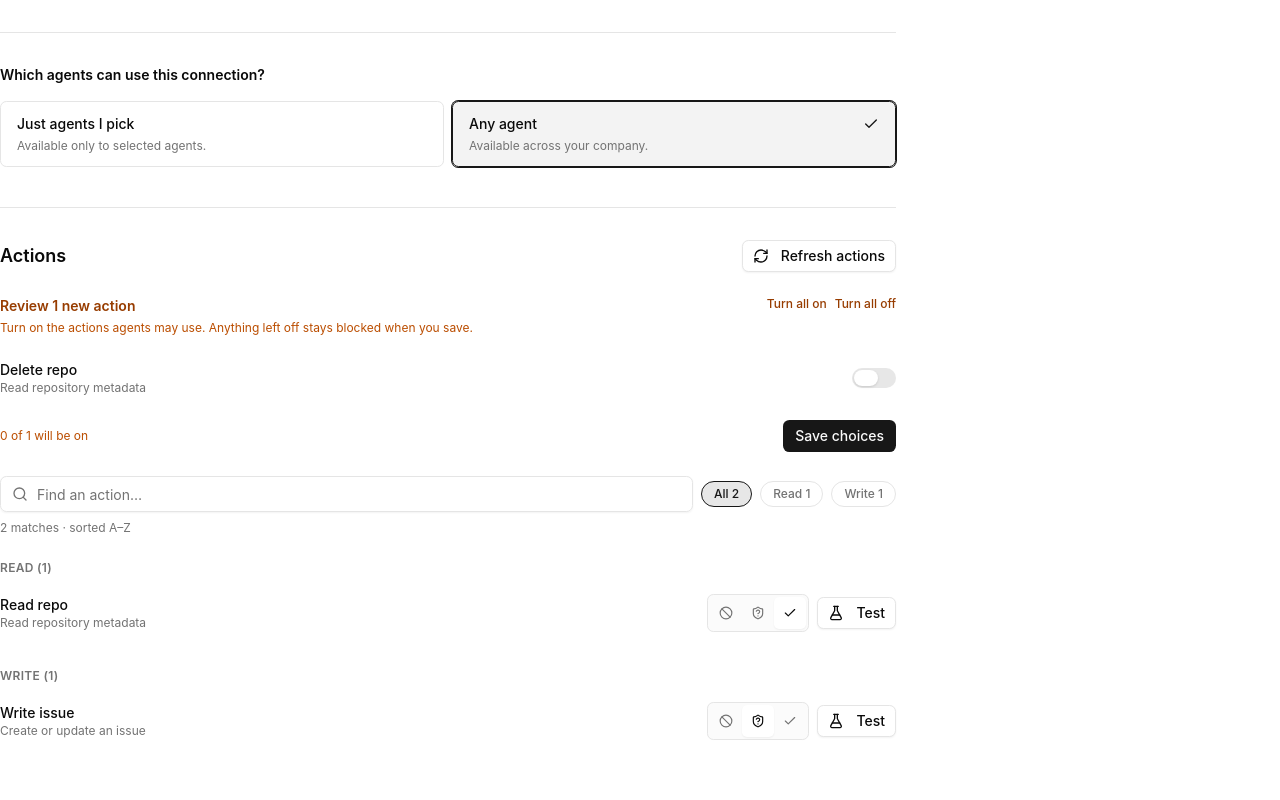
Test: AppDetail › opens an action test modal with agent selection, inputs, and result-ready chrome
(page scrolled)
What coordinates should you click on to do the following:
click the 1st button "Test"
I would click on:
 (857, 613)
Its box is [817,597,896,629].
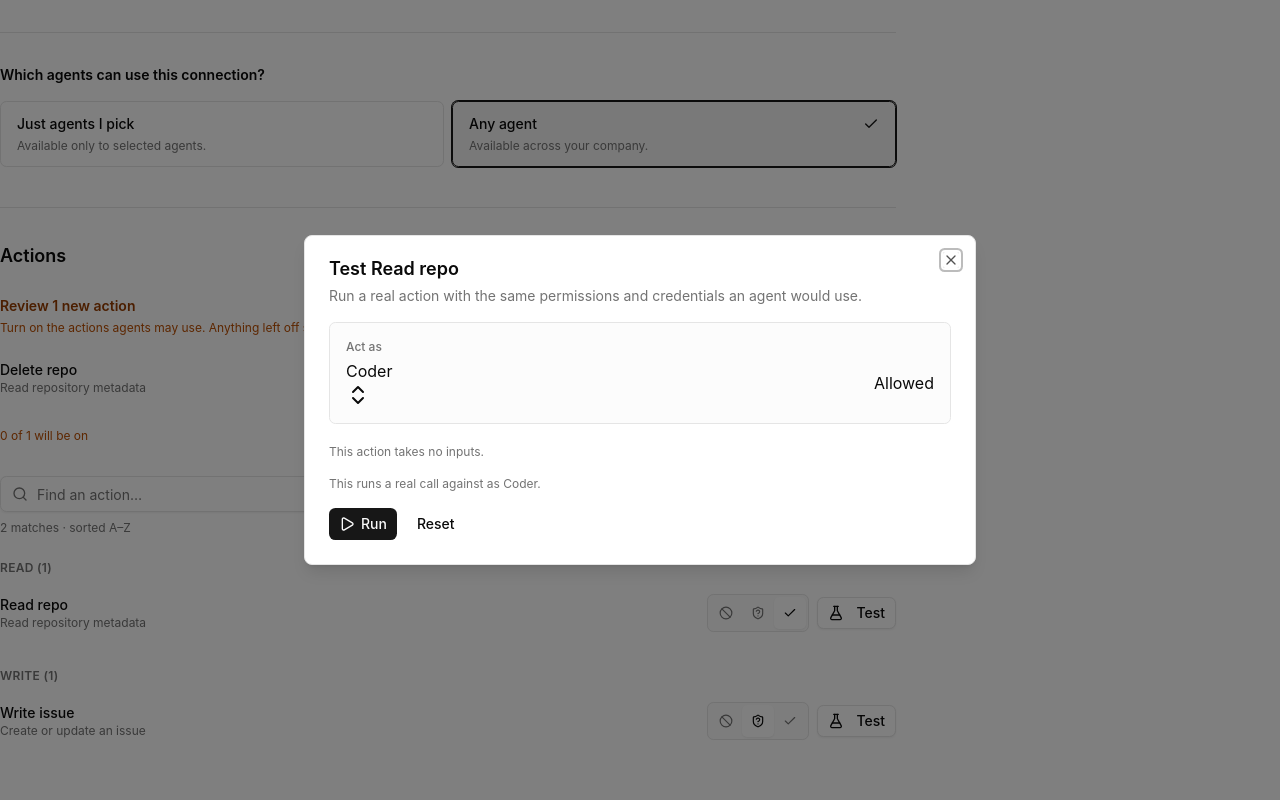
Check: the dialog shows "Test Read repo", box [304,235,976,565]
Check: the dialog shows "Act as", box [346,339,382,354]
Check: the dialog shows "Coder", box [346,359,392,407]
